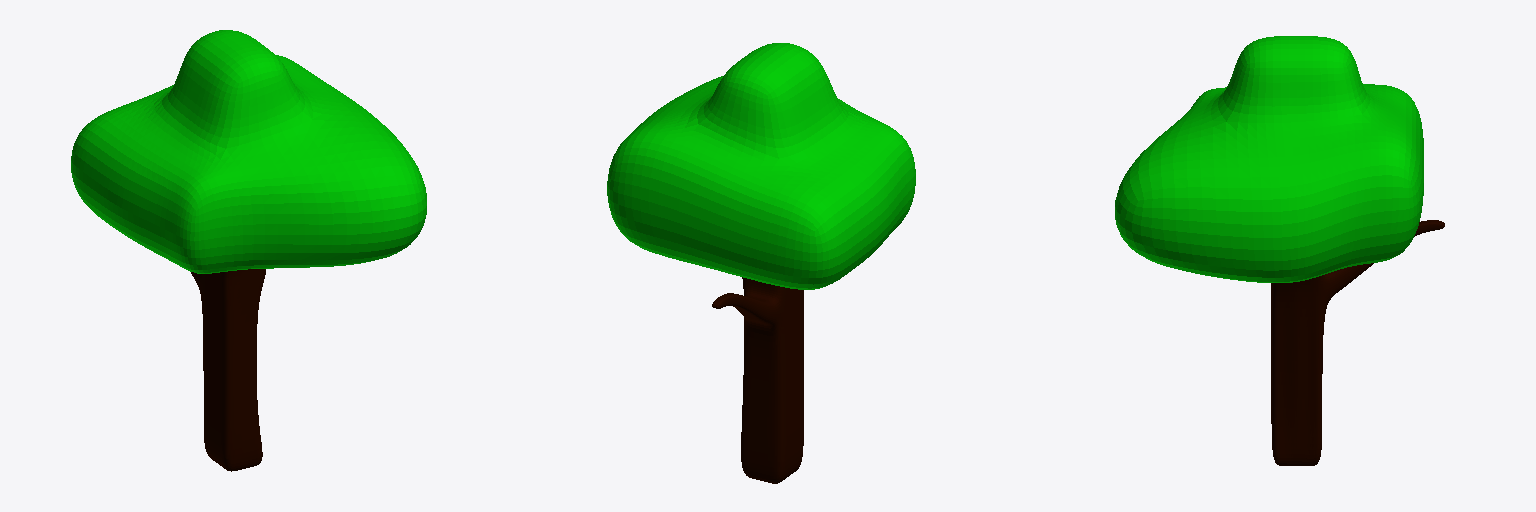
The model's file is Chêne.obj.
3 views of the same model, side by side, from view 1: azimuth 30°, elevation 25°; view 2: azimuth 150°, elevation 25°; view 3: azimuth 270°, elevation 25° (orthographic).
Parts seen in each view (by area): view 1: Cube; view 2: Cube; view 3: Cube.
Boxes of the visible parts, <box> form: Cube: <box>71,30,426,471</box>; Cube: <box>607,43,915,483</box>; Cube: <box>1115,36,1444,465</box>.
Bounding box in the file's own units: 3.09 × 4.83 × 3.45.